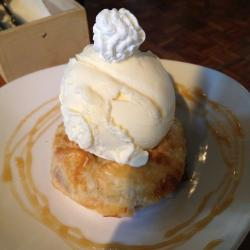apple_pie: (46, 115, 200, 221)
chantilly: (82, 4, 153, 59)
icecream: (55, 39, 184, 166)
